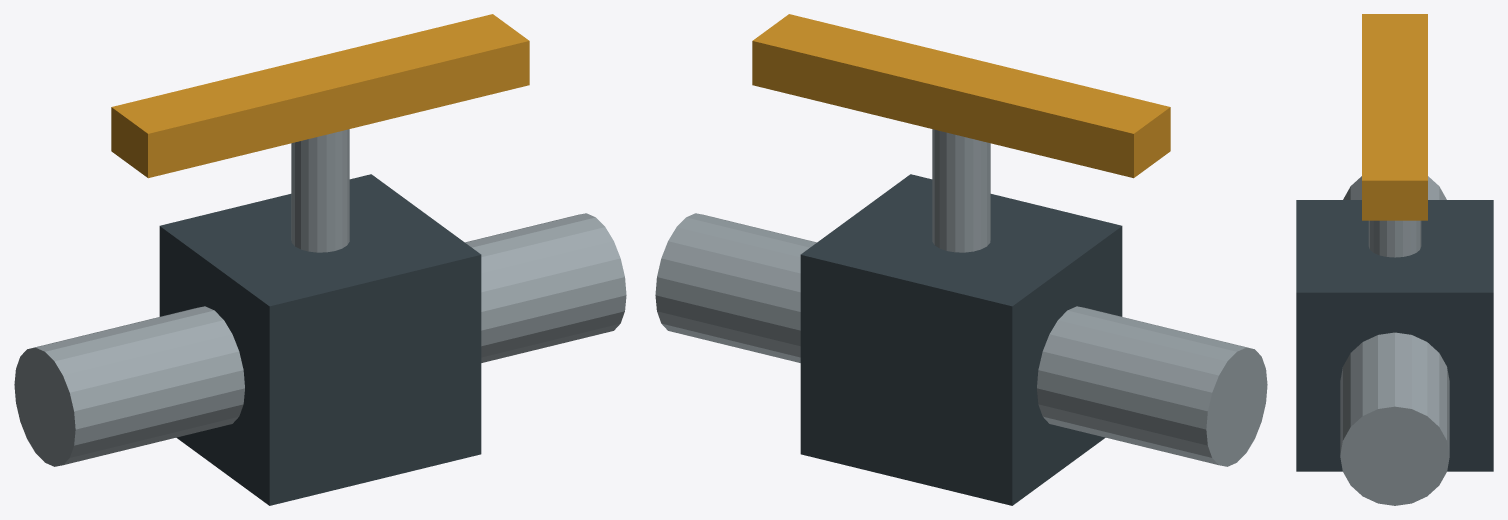
The model's file is FuelLinks.obj.
3 views of the same model, side by side, from view 1: azimuth 30°, elevation 25°; view 2: azimuth 150°, elevation 25°; view 3: azimuth 270°, elevation 25° (orthographic). The views are drawn at different scales.
Parts seen in each view (by area): view 1: FuelLinksBody; view 2: FuelLinksBody; view 3: FuelLinksBody.
Part boxes in pixels (x1,y1,x2,y2): FuelLinksBody: [14, 14, 626, 505]; FuelLinksBody: [655, 14, 1267, 505]; FuelLinksBody: [1296, 14, 1493, 505].
Bounding box in the file's own units: 0.26 × 0.165 × 0.09.
